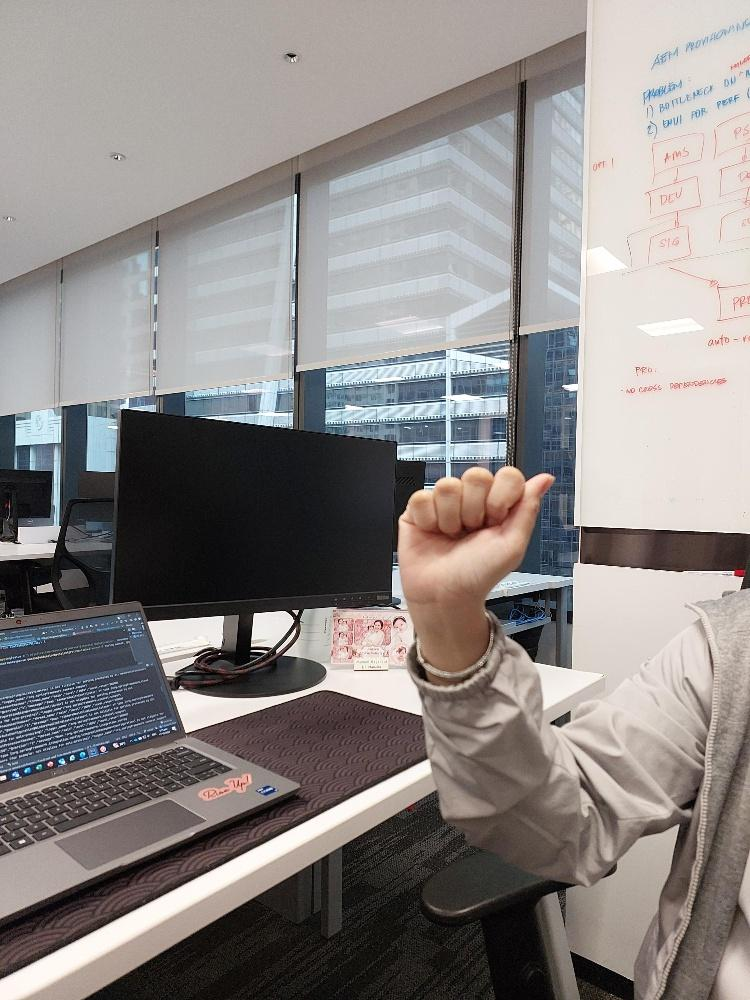a: (397, 467, 553, 596)
